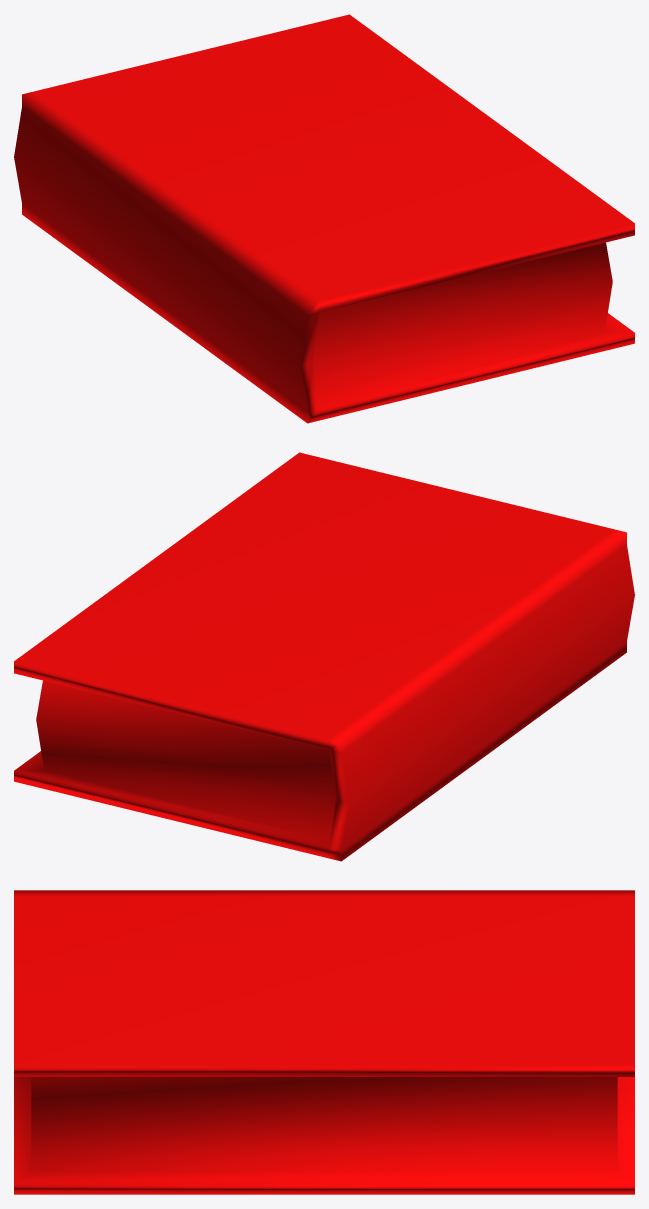
File: Book04.fbx
3 renders of one model, top to bottom at view 1: azimuth 30°, elevation 25°; view 2: azimuth 150°, elevation 25°; view 3: azimuth 270°, elevation 25°, orthographic. The views are drawn at different scales.
Parts seen in each view (by area): view 1: Book04; view 2: Book04; view 3: Book04.
Boxes of the visible parts, bbox=[...] form: Book04: bbox=[14, 14, 634, 423]; Book04: bbox=[14, 452, 634, 861]; Book04: bbox=[14, 890, 634, 1194].
Bounding box in the file's own units: 1.79 × 0.6138 × 2.64.
